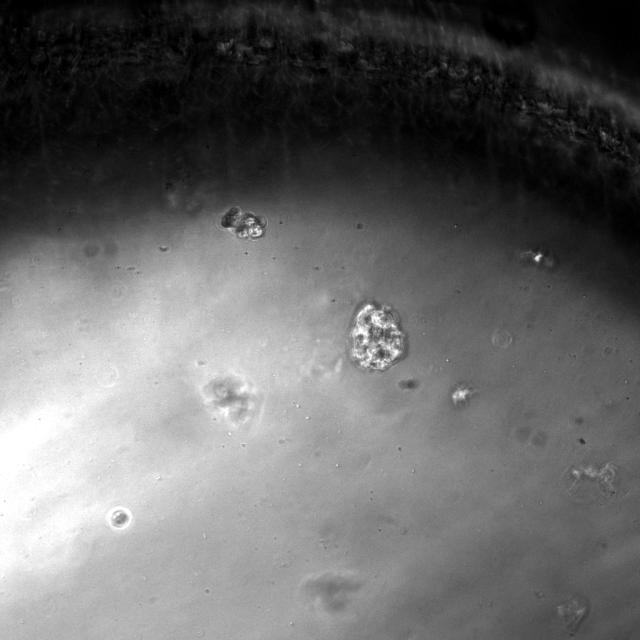organoid: (349, 303, 404, 371), (200, 372, 262, 428), (561, 460, 632, 503), (219, 206, 266, 239), (451, 383, 477, 408), (106, 506, 132, 529)
